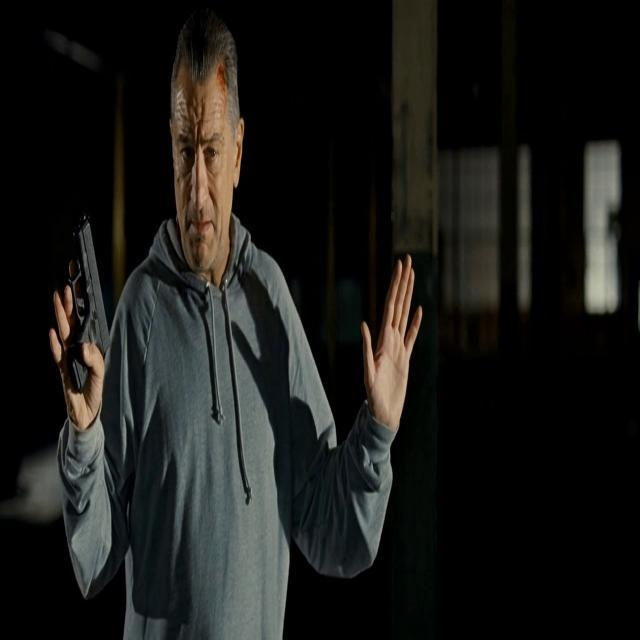gun-knife-thesis - v11 Yolov5 augmented: (47, 194, 131, 421)
